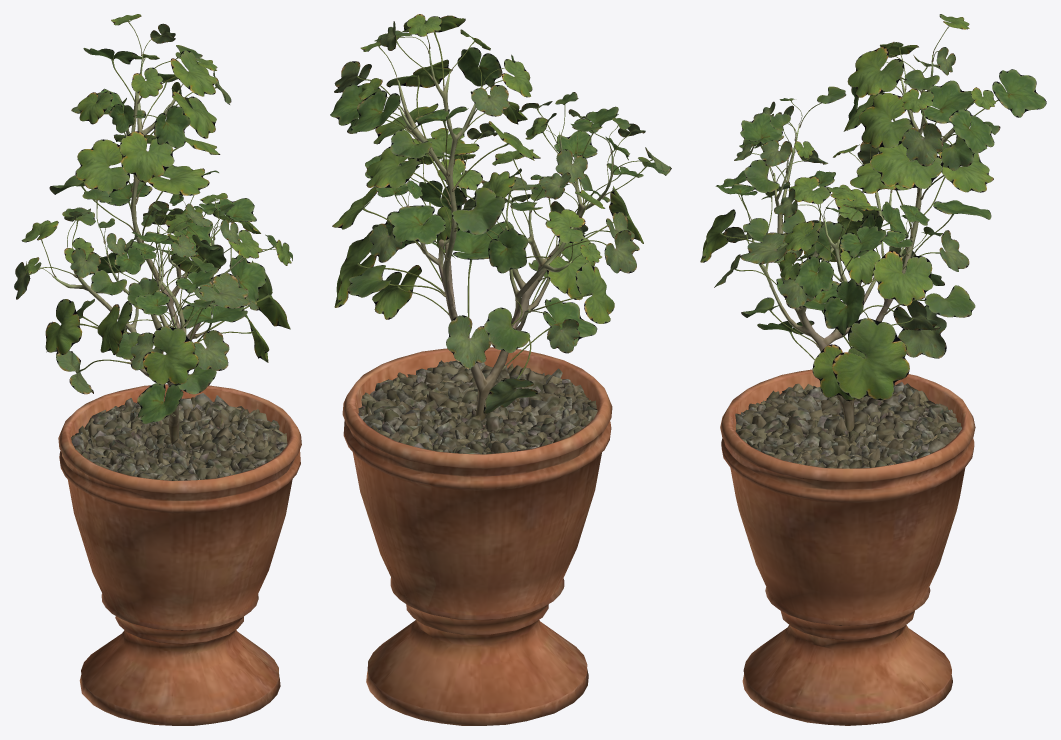
Rendered from potted_plant_01.glb.
3 renders of one model, left to right at view 1: azimuth 30°, elevation 25°; view 2: azimuth 150°, elevation 25°; view 3: azimuth 270°, elevation 25°, orthographic. The views are drawn at different scales.
Parts seen in each view (by area): view 1: potted_plant_01_pot, potted_plant_01_leaves, potted_plant_01_pebbles, potted_plant_01_stem; view 2: potted_plant_01_pot, potted_plant_01_leaves, potted_plant_01_pebbles, potted_plant_01_stem; view 3: potted_plant_01_pot, potted_plant_01_leaves, potted_plant_01_pebbles, potted_plant_01_stem.
Part boxes in pixels (<box>): potted_plant_01_pot: <box>58,384,301,725</box>; potted_plant_01_leaves: <box>14,14,292,423</box>; potted_plant_01_pebbles: <box>71,393,287,480</box>; potted_plant_01_stem: <box>53,54,243,443</box>; potted_plant_01_pot: <box>342,347,612,725</box>; potted_plant_01_leaves: <box>330,14,671,414</box>; potted_plant_01_pebbles: <box>358,360,597,454</box>; potted_plant_01_stem: <box>397,48,612,420</box>; potted_plant_01_pot: <box>720,369,975,725</box>; potted_plant_01_leaves: <box>700,14,1046,401</box>; potted_plant_01_pebbles: <box>735,382,961,468</box>; potted_plant_01_stem: <box>752,55,966,433</box>.
Bounding box in the file's own units: 0.5874 × 1.34 × 0.6336.
2 materials, 2 textured.
